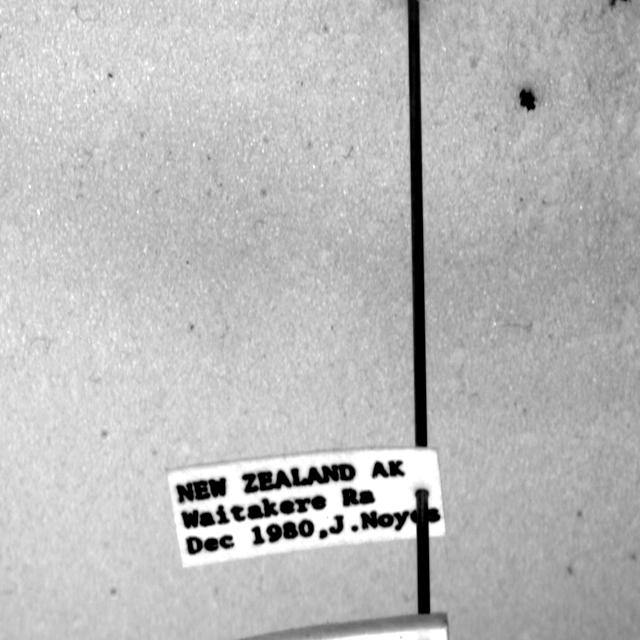typed_label: (168, 448, 445, 568)
